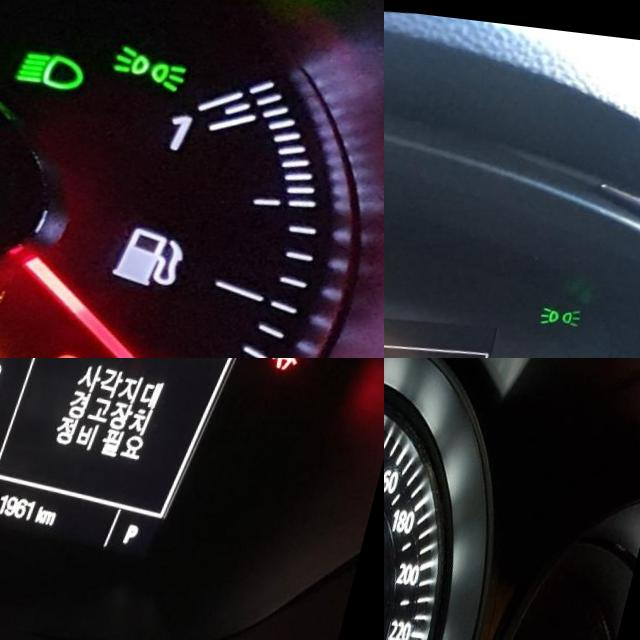Low beam: (16, 38, 99, 95)
SideLamp: (111, 35, 200, 85), (550, 290, 598, 316)
